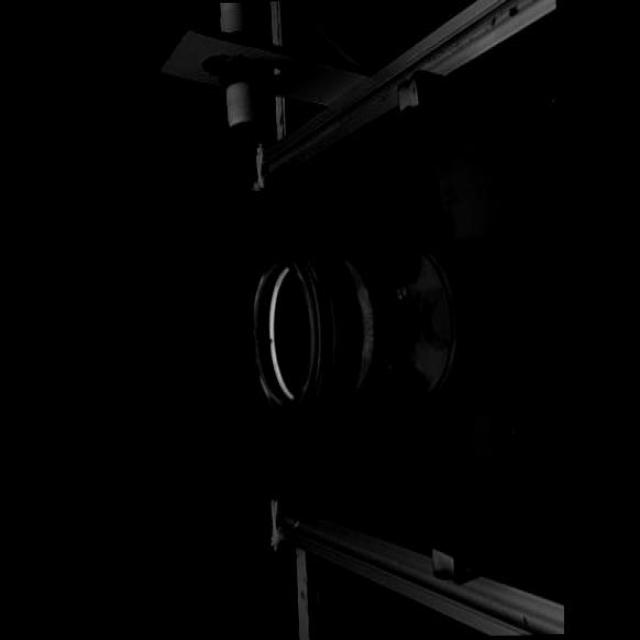defect: (252, 328, 258, 338), (268, 337, 272, 344)
glass: (248, 239, 460, 419)
